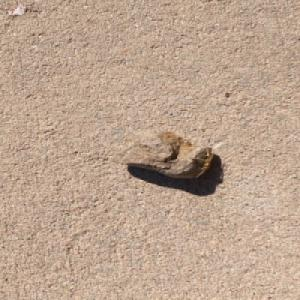Rock: (106, 128, 213, 179)
